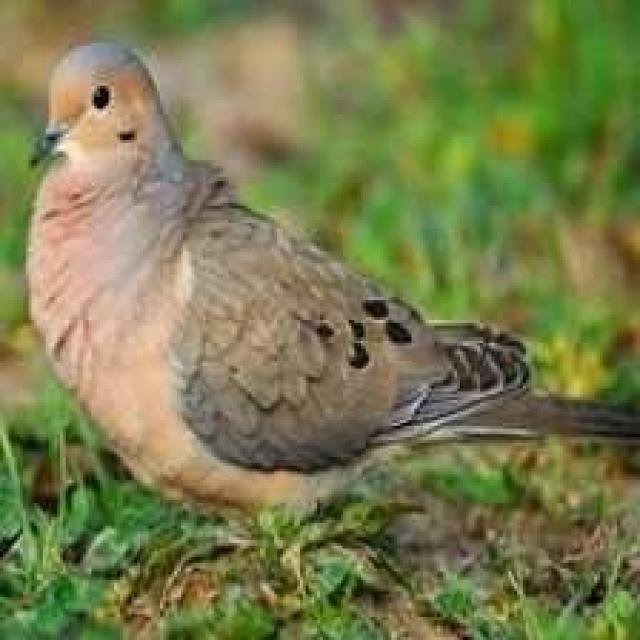dove: (17, 37, 640, 582)
